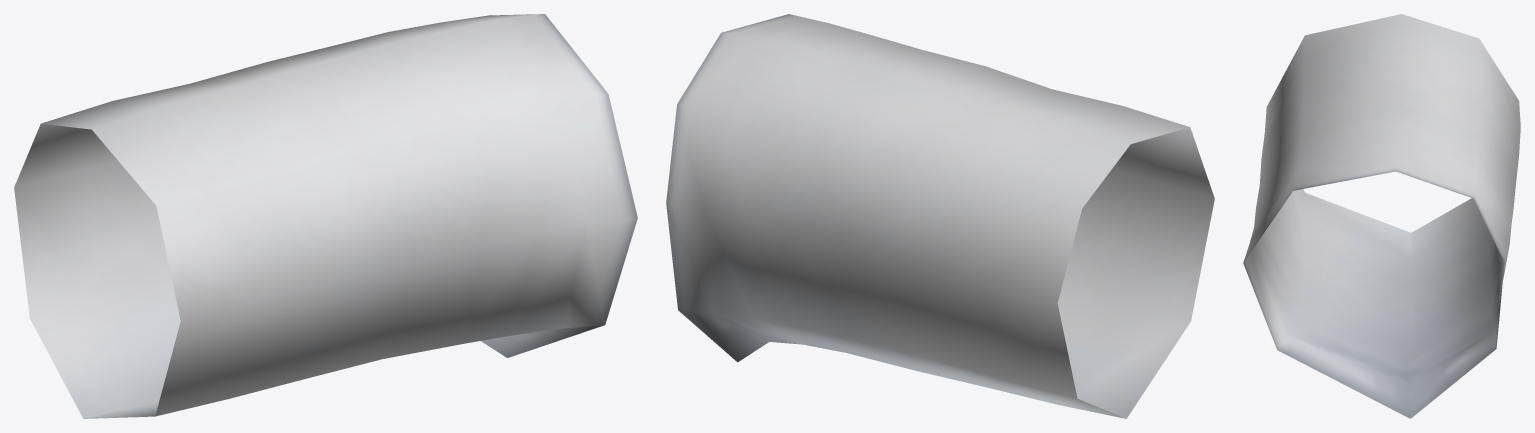
Rendered from bIzq2Oak.obj.
3 renders of one model, left to right at view 1: azimuth 30°, elevation 25°; view 2: azimuth 150°, elevation 25°; view 3: azimuth 270°, elevation 25°, orthographic. The views are drawn at different scales.
Parts seen in each view (by area): view 1: LArm, LArmEX, tr0004_00_topsSkin.002_body, LShoulder; view 2: LArm, LArmEX, tr0004_00_topsSkin.002_body, LShoulder; view 3: LArm, LArmEX, tr0004_00_topsSkin.002_body, LShoulder.
Part boxes in pixels (x1,y1,x2,y2): LArm: (14,62,413,418); LArmEX: (268,19,586,358); tr0004_00_topsSkin.002_body: (443,14,637,357); LShoulder: (564,224,605,327); LArm: (847,66,1214,418); LArmEX: (704,23,984,370); tr0004_00_topsSkin.002_body: (666,14,828,362); LShoulder: (677,104,719,211); LArm: (1259,14,1520,318); LArmEX: (1249,88,1515,383); tr0004_00_topsSkin.002_body: (1243,149,1509,418); LShoulder: (1251,179,1508,349).
Bounding box in the file's own units: 1.85 × 1.37 × 1.32.
